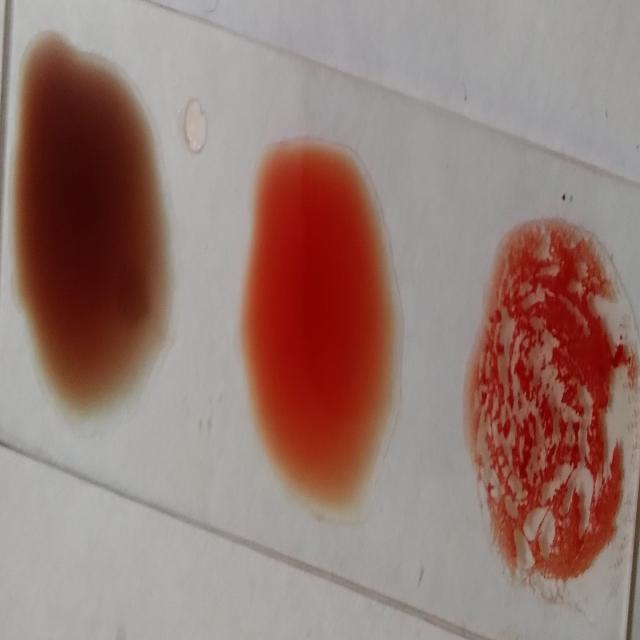D: (474, 210, 631, 598)
